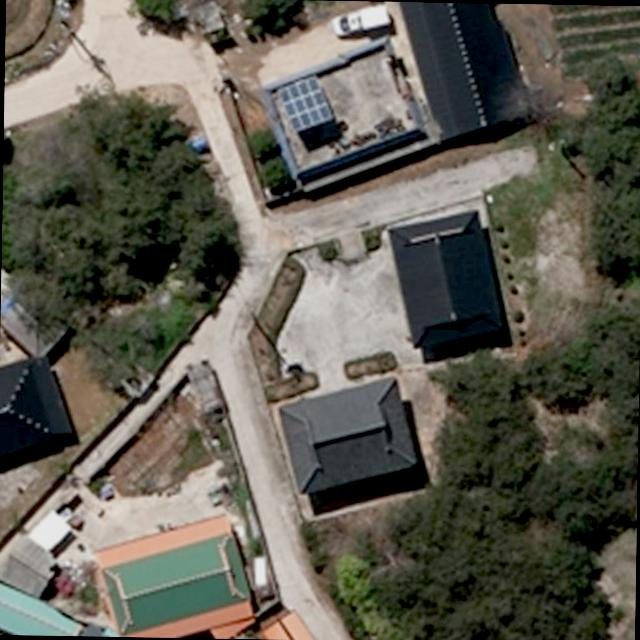solar: (272, 73, 334, 136)
